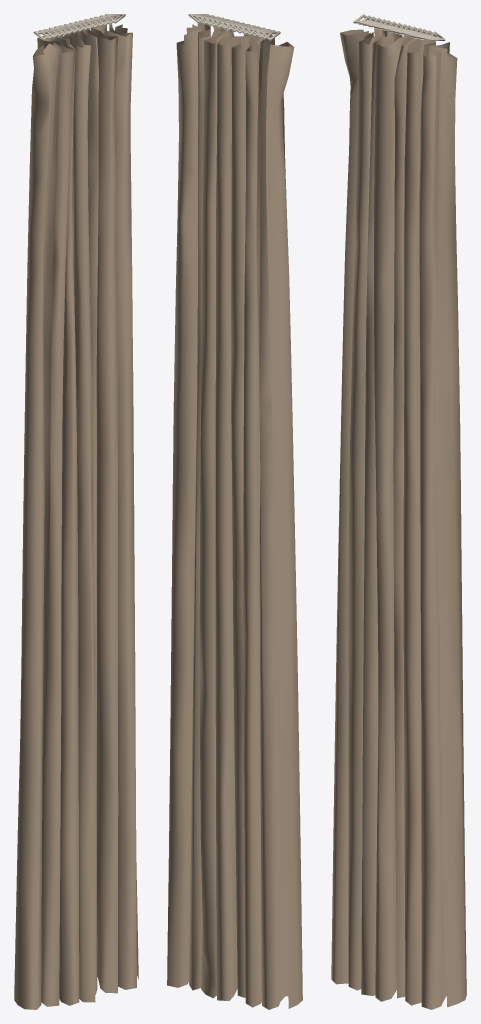
Rendered from curtain_rings_w100_g20_30_lod0.glb.
The picture shows the model from 3 angles, left to right: view 1: azimuth 30°, elevation 25°; view 2: azimuth 150°, elevation 25°; view 3: azimuth 330°, elevation 25°; orthographic projection.
Parts seen in each view (by area): view 1: curtain_rings_g20_30_lod0_fabric, curtain_rings_g20_30_lod0_rings; view 2: curtain_rings_g20_30_lod0_fabric, curtain_rings_g20_30_lod0_rings; view 3: curtain_rings_g20_30_lod0_fabric, curtain_rings_g20_30_lod0_rings.
Part boxes in pixels (left/top/right/bottom): curtain_rings_g20_30_lod0_fabric: left=14, top=24, right=138, bottom=1009; curtain_rings_g20_30_lod0_rings: left=33, top=14, right=125, bottom=40; curtain_rings_g20_30_lod0_fabric: left=167, top=22, right=302, bottom=1009; curtain_rings_g20_30_lod0_rings: left=188, top=14, right=280, bottom=40; curtain_rings_g20_30_lod0_fabric: left=331, top=28, right=466, bottom=1009; curtain_rings_g20_30_lod0_rings: left=353, top=14, right=445, bottom=40.
Bounding box in the file's own units: 0.3378 × 2.54 × 0.1532.
